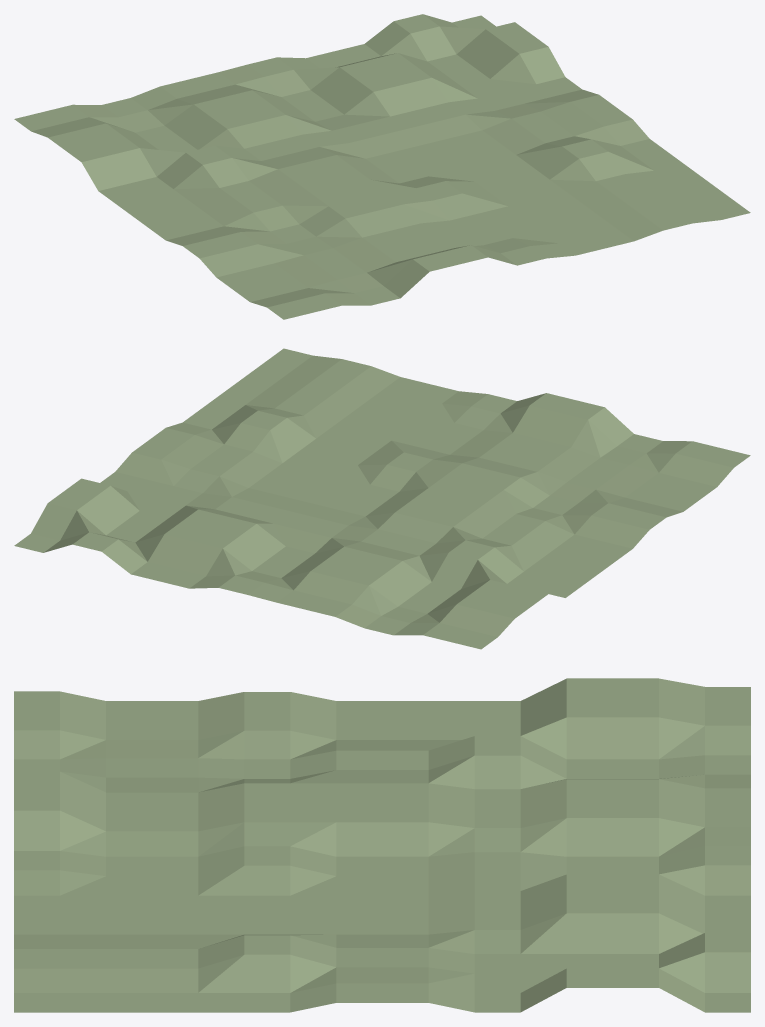
3 views of the same model, one above another, from view 1: azimuth 30°, elevation 25°; view 2: azimuth 150°, elevation 25°; view 3: azimuth 270°, elevation 25° (orthographic). The views are drawn at different scales.
Bounding box in the file's own units: 32 × 1.28 × 32.
